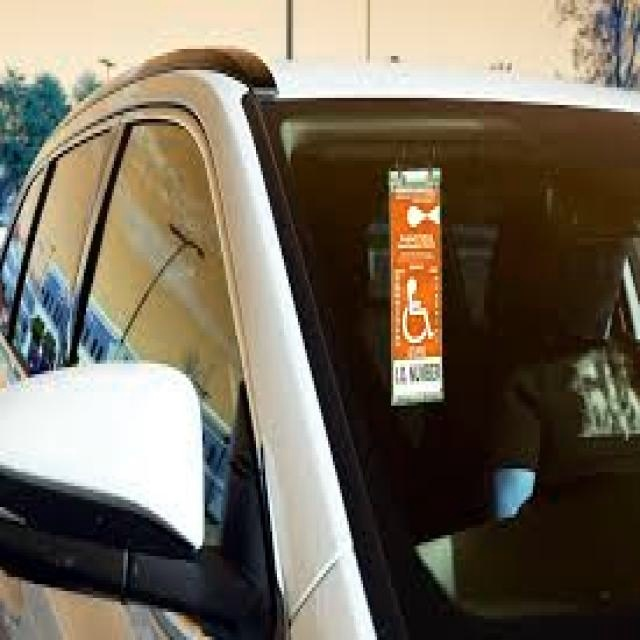ISA: (402, 278, 434, 343)
